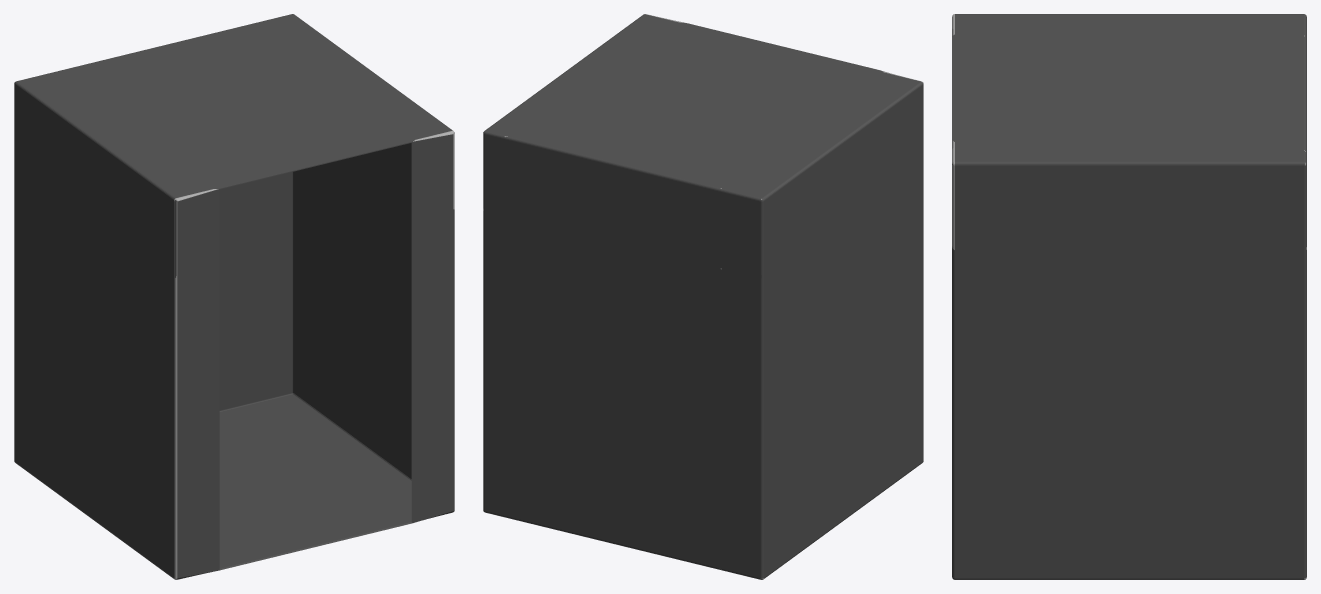
Rendered from DM_Env_Elevator_Cabin.fbx.
The picture shows the model from 3 angles, left to right: view 1: azimuth 30°, elevation 25°; view 2: azimuth 150°, elevation 25°; view 3: azimuth 270°, elevation 25°; orthographic projection. The views are drawn at different scales.
Visible parts, largest first — view 1: SM_Env_Elevator_Cabin; view 2: SM_Env_Elevator_Cabin; view 3: SM_Env_Elevator_Cabin.
Part boxes in pixels (x1=…): SM_Env_Elevator_Cabin: x1=14, y1=14, x2=454, y2=579; SM_Env_Elevator_Cabin: x1=483, y1=14, x2=923, y2=579; SM_Env_Elevator_Cabin: x1=952, y1=14, x2=1306, y2=579.
Bounding box in the file's own units: 2 × 2.6 × 2.
